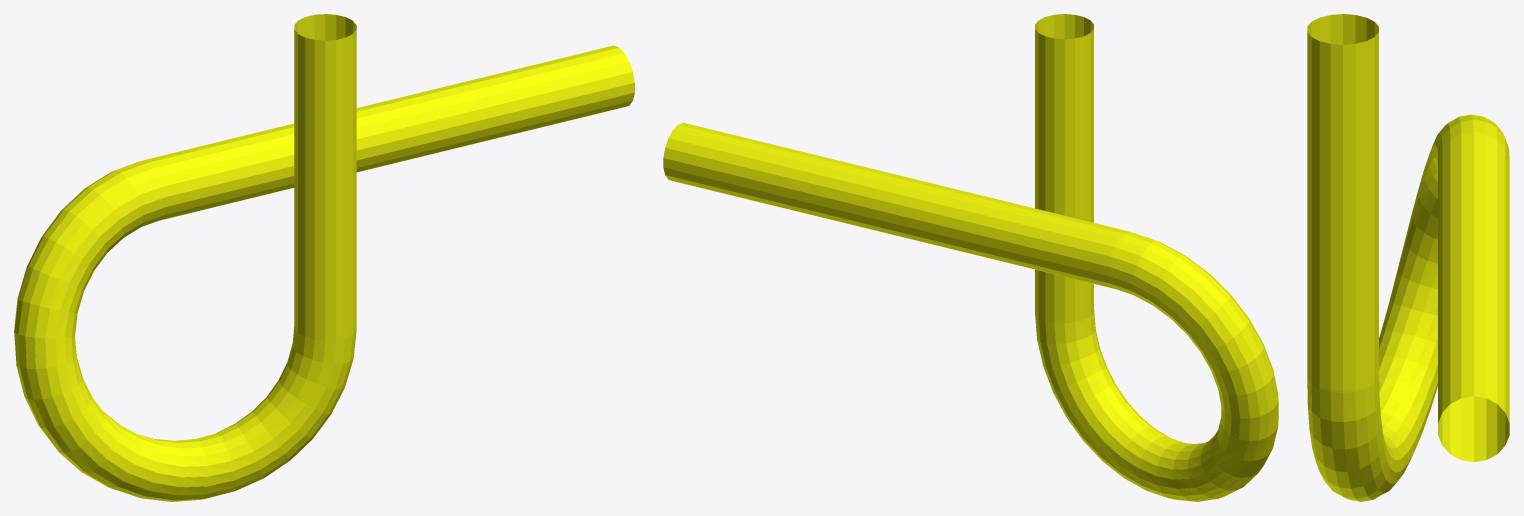
Rendered from alpha_env-1.0.dae.
3 views of the same model, side by side, from view 1: azimuth 30°, elevation 25°; view 2: azimuth 150°, elevation 25°; view 3: azimuth 270°, elevation 25° (orthographic). The views are drawn at different scales.
Parts seen in each view (by area): view 1: instance_0; view 2: instance_0; view 3: instance_0.
Part boxes in pixels (x1=…): instance_0: x1=14, y1=14, x2=634, y2=501; instance_0: x1=663, y1=14, x2=1278, y2=501; instance_0: x1=1307, y1=14, x2=1509, y2=501.
Bounding box in the file's own units: 239 × 59.13 × 168.
